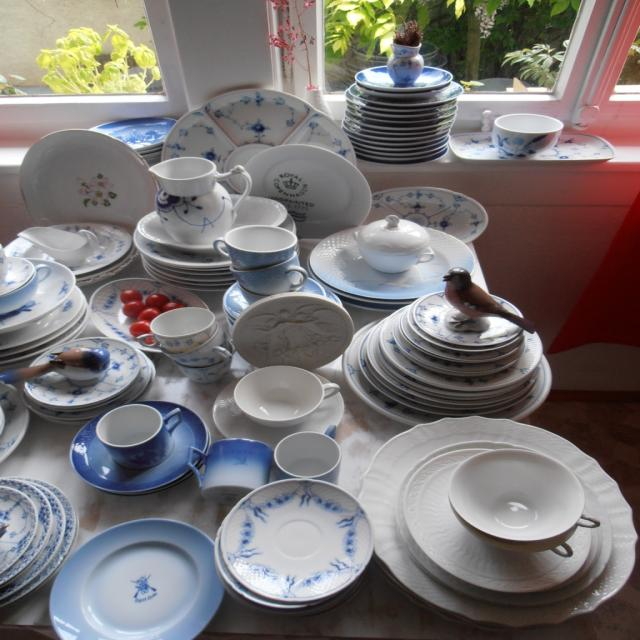non-organic waste: (61, 508, 297, 640), (213, 108, 369, 253), (201, 486, 379, 590)
